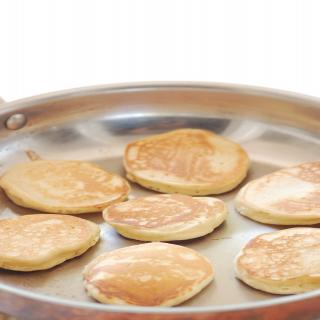Pancake: (123, 128, 250, 196), (0, 151, 129, 212), (102, 195, 228, 242), (0, 213, 98, 271), (234, 227, 320, 292), (234, 162, 320, 225)
